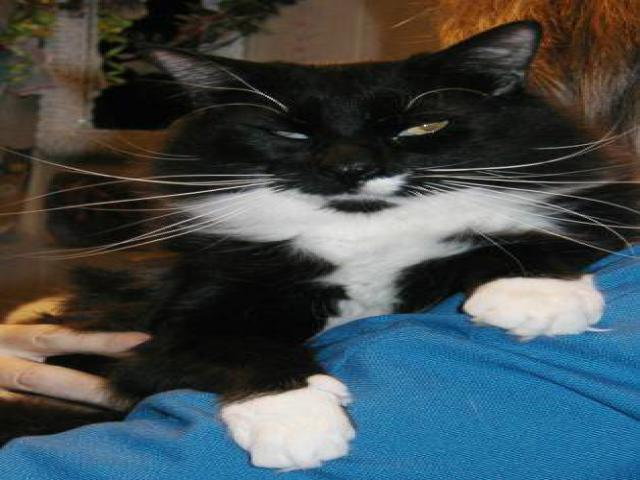cat: (51, 17, 632, 458)
